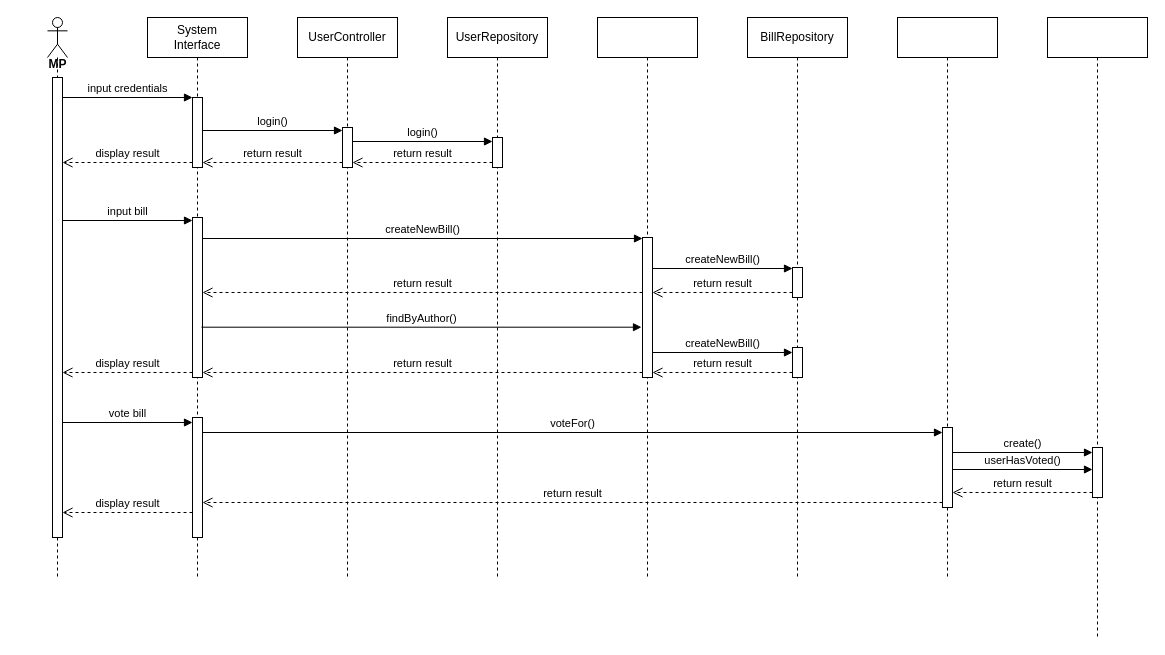
The diagram is 1165 pixels wide and 655 high, and some of its shapes have lost their labels. Here are the shapes that lost their labels. From the top down, the box of each, then its label:
(596, 16, 698, 578): BillController
(896, 16, 998, 578): VoteController
(1046, 16, 1148, 638): VoteRepository
